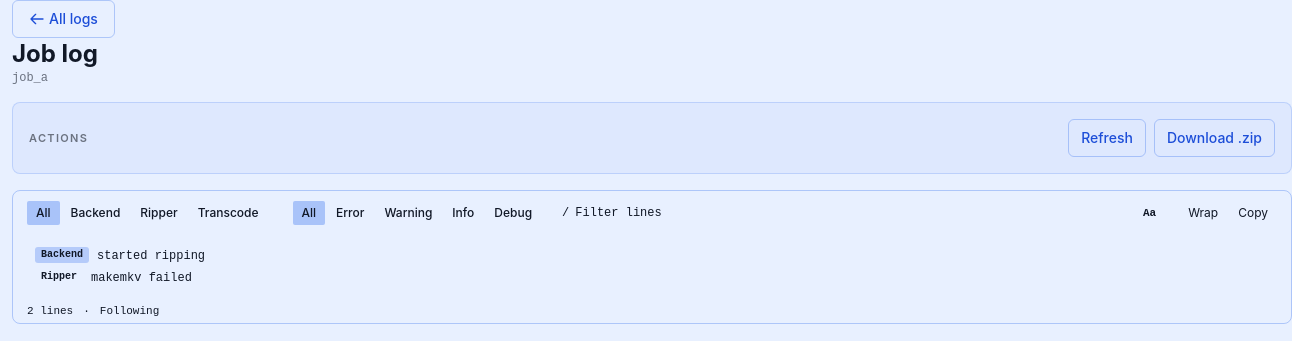
it: Logs single-job viewer › filters by free text search
Check: the text "started ripping" is shown, box [97,247,205,265]
Type "makemkv" into the field with test id "job-log-search".
click(854, 213); type("makemkv")  # box [575,206,1132,220]
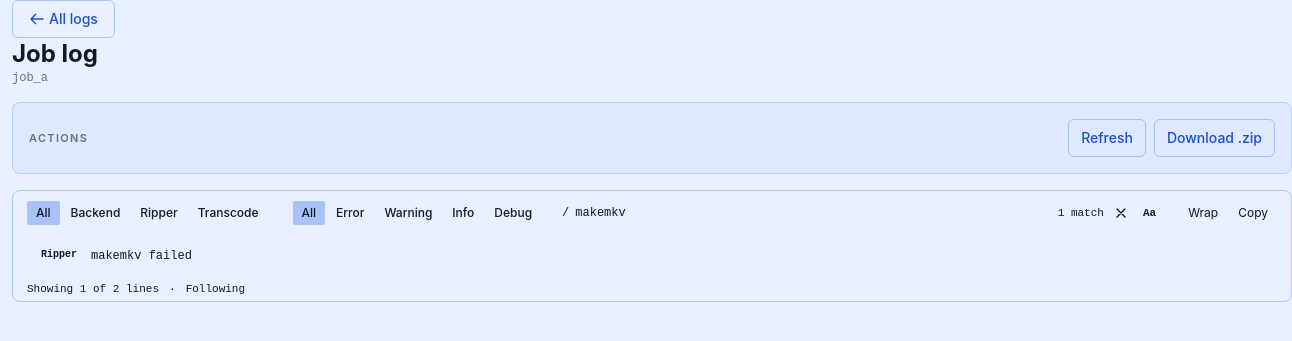
Check: the text "started ripping" is gone
Check: the text "makemkv failed" is shown, box [91,247,192,265]
